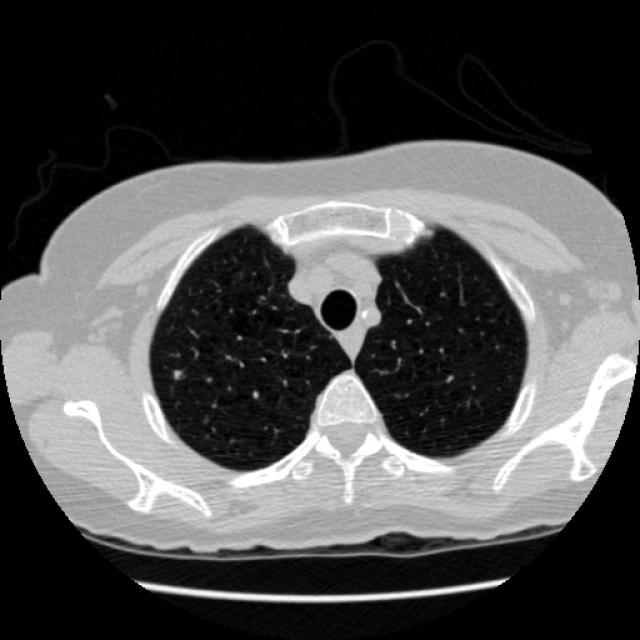nodule: (164, 360, 188, 385)
